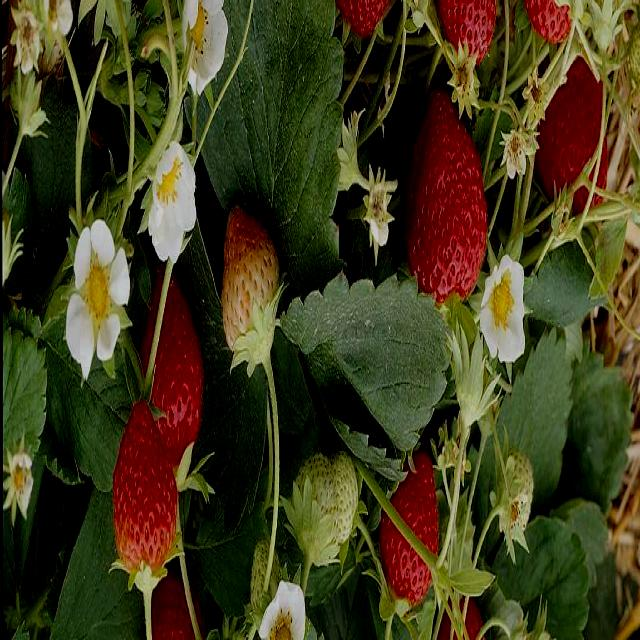ripe: (401, 87, 488, 320), (137, 249, 205, 477), (534, 59, 608, 243), (108, 397, 179, 586), (380, 448, 442, 602), (432, 0, 500, 77), (145, 564, 206, 640), (518, 0, 580, 59), (332, 0, 399, 50)
unripe: (219, 205, 294, 385), (288, 434, 359, 580), (492, 437, 543, 554)
